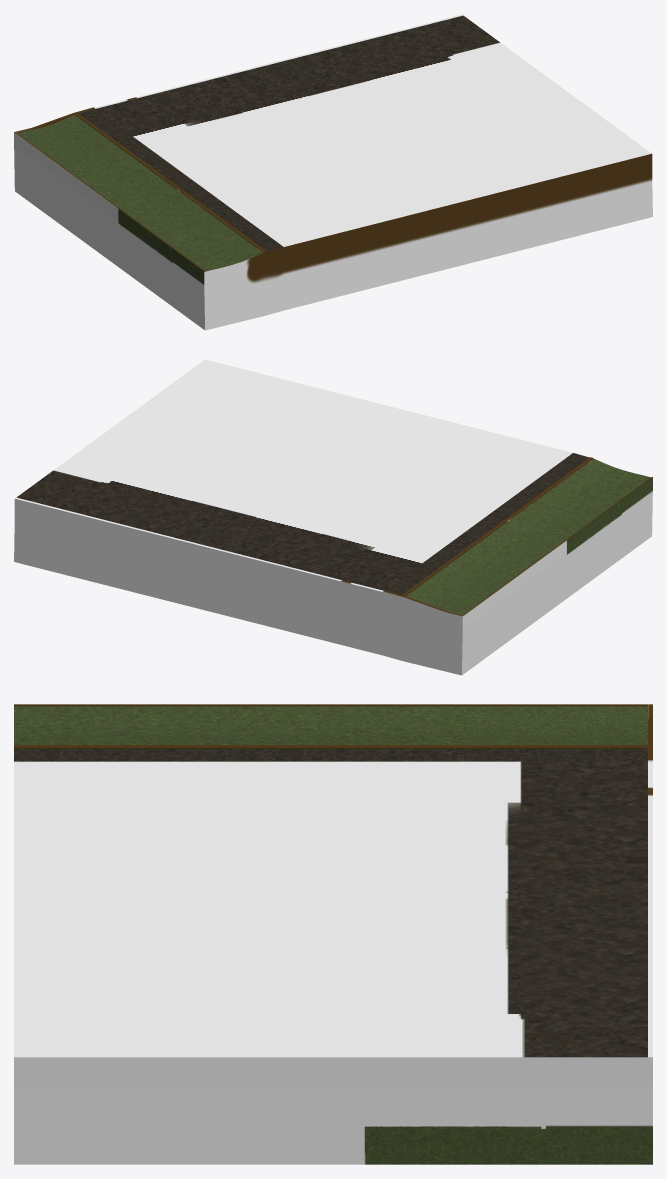
Rendered from FrontLawnStreet.fbx.
The picture shows the model from 3 angles, top to bottom: view 1: azimuth 30°, elevation 25°; view 2: azimuth 150°, elevation 25°; view 3: azimuth 270°, elevation 25°; orthographic projection. The views are drawn at different scales.
Visible parts, largest first — view 1: Lawn_R; view 2: Lawn_R; view 3: Lawn_R.
Part boxes in pixels (x1,y1,x2,y2): Lawn_R: (14, 14, 652, 330); Lawn_R: (14, 359, 652, 675); Lawn_R: (14, 704, 652, 1164).
Size of the model in its own units: 7580 by 1095 by 5564.
